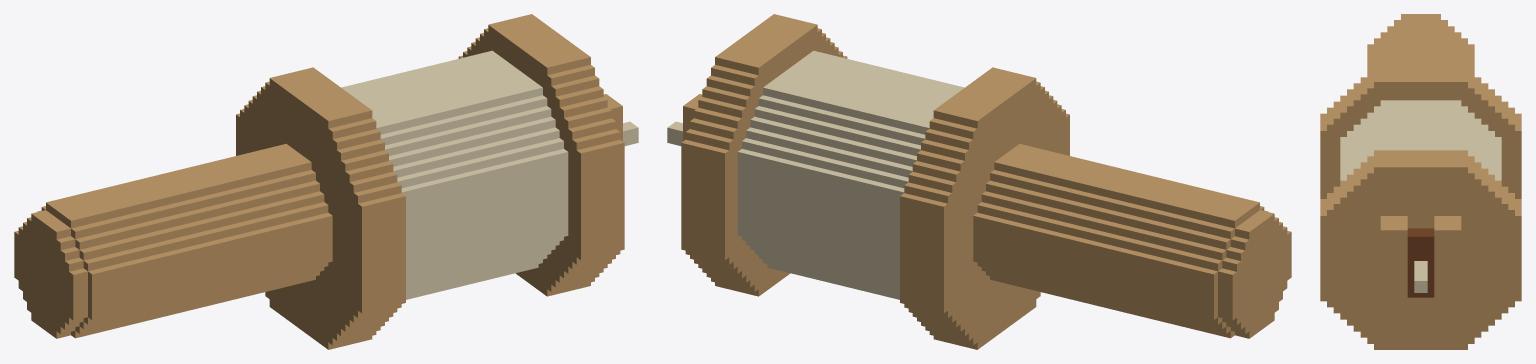
File: hoboreel.glb
3 views of the same model, side by side, from view 1: azimuth 30°, elevation 25°; view 2: azimuth 150°, elevation 25°; view 3: azimuth 270°, elevation 25° (orthographic). The views are drawn at different scales.
Parts seen in each view (by area): view 1: hoboreel:compound; view 2: hoboreel:compound; view 3: hoboreel:compound.
Boxes of the visible parts, x1,y1,x2,y2 form: hoboreel:compound: (14, 14, 638, 349); hoboreel:compound: (667, 14, 1291, 349); hoboreel:compound: (1320, 14, 1521, 349).
Bounding box in the file's own units: 0.162 × 0.06 × 0.06.
